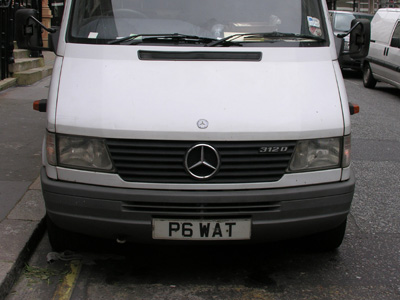licencePlate: (154, 220, 254, 243)
